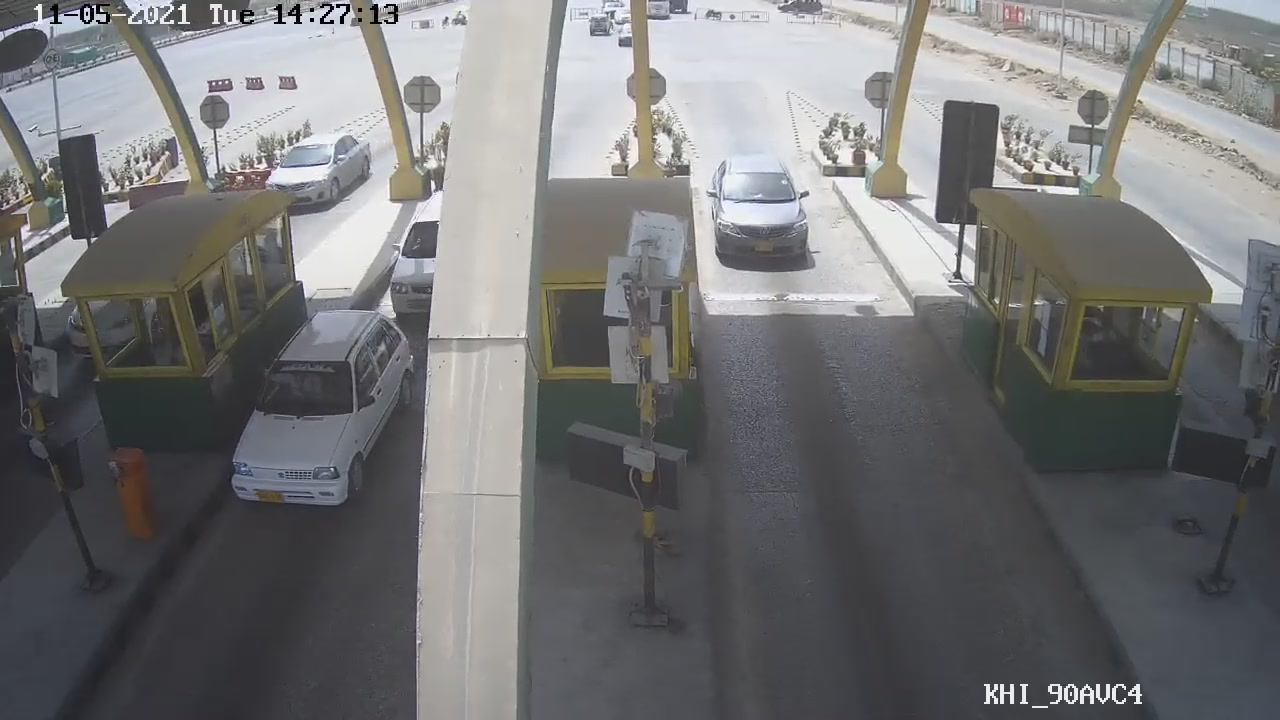F1: (706, 154, 821, 264)
